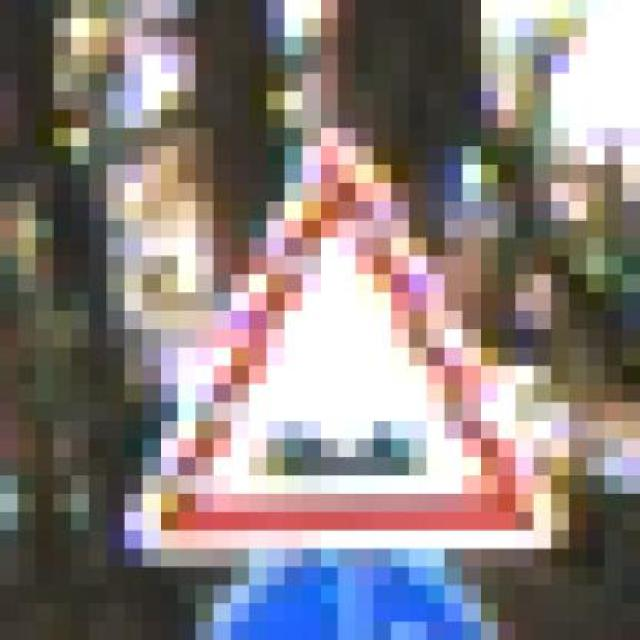Uneven Road: (124, 110, 587, 548)
